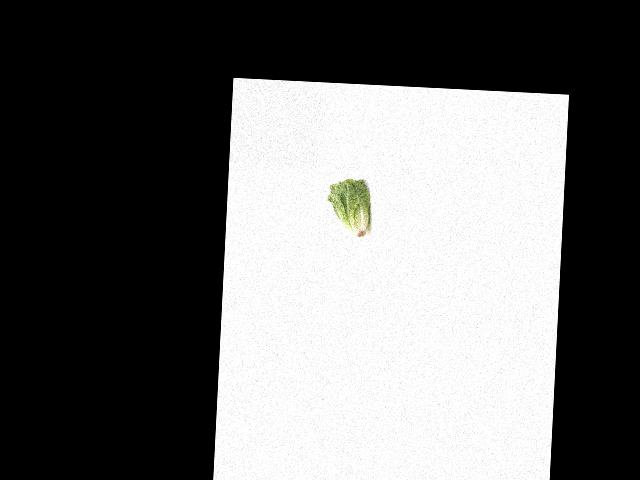lettuce: (325, 177, 373, 240)
